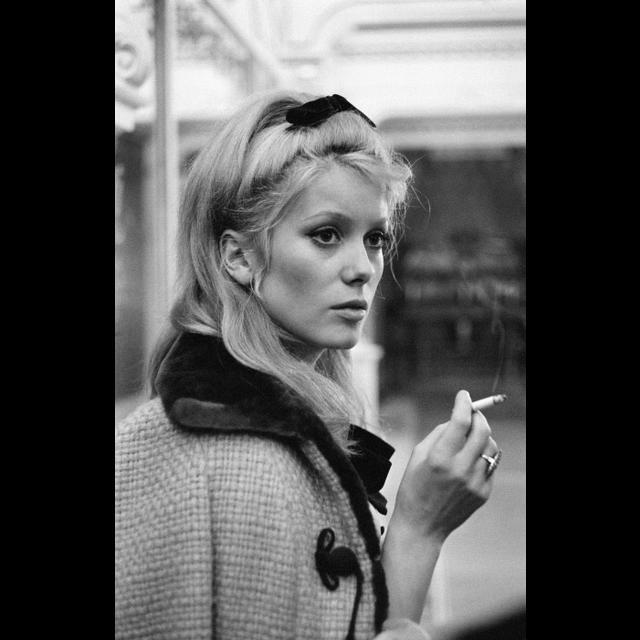rokok: (467, 392, 513, 416)
